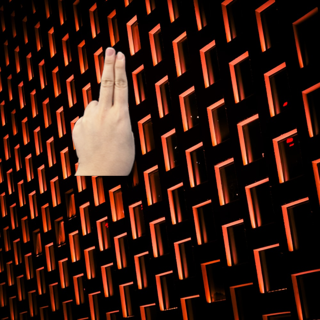DHAVE: (68, 43, 142, 173)
